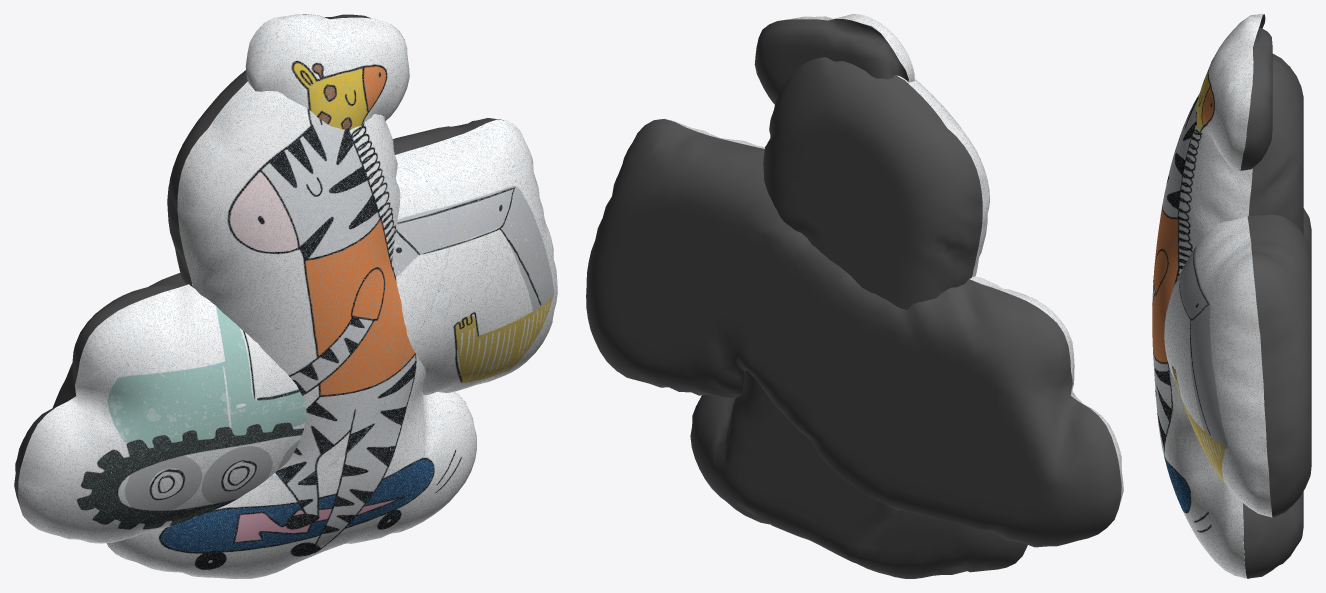
The model's file is Furniture-37.fbx.
3 renders of one model, left to right at view 1: azimuth 30°, elevation 25°; view 2: azimuth 150°, elevation 25°; view 3: azimuth 270°, elevation 25°, orthographic. The views are drawn at different scales.
Parts seen in each view (by area): view 1: Component_7, Component_9, Component_5, Component_10, Component_8; view 2: Component_10, Component_8, Component_6, Component_7, Component_9, Component_5; view 3: Component_9, Component_7, Component_10, Component_8, Component_5, Component_6.
Boxes of the visible parts, x1,y1,x2,y2 form: Component_7: (107, 81, 476, 578); Component_9: (18, 119, 557, 543); Component_5: (245, 14, 409, 129); Component_10: (14, 118, 503, 517); Component_8: (167, 70, 464, 401); Component_10: (586, 119, 1121, 547); Component_8: (690, 57, 1027, 578); Component_6: (754, 18, 908, 104); Component_7: (897, 74, 991, 570); Component_9: (667, 119, 1123, 505); Component_5: (778, 14, 914, 86); Component_9: (1164, 216, 1272, 517); Component_7: (1152, 57, 1253, 578); Component_10: (1247, 206, 1311, 517); Component_8: (1243, 54, 1303, 578); Component_5: (1195, 14, 1264, 512); Component_6: (1240, 14, 1272, 202).
Size of the model in its own units: 0.4804 by 0.4712 by 0.1306.
